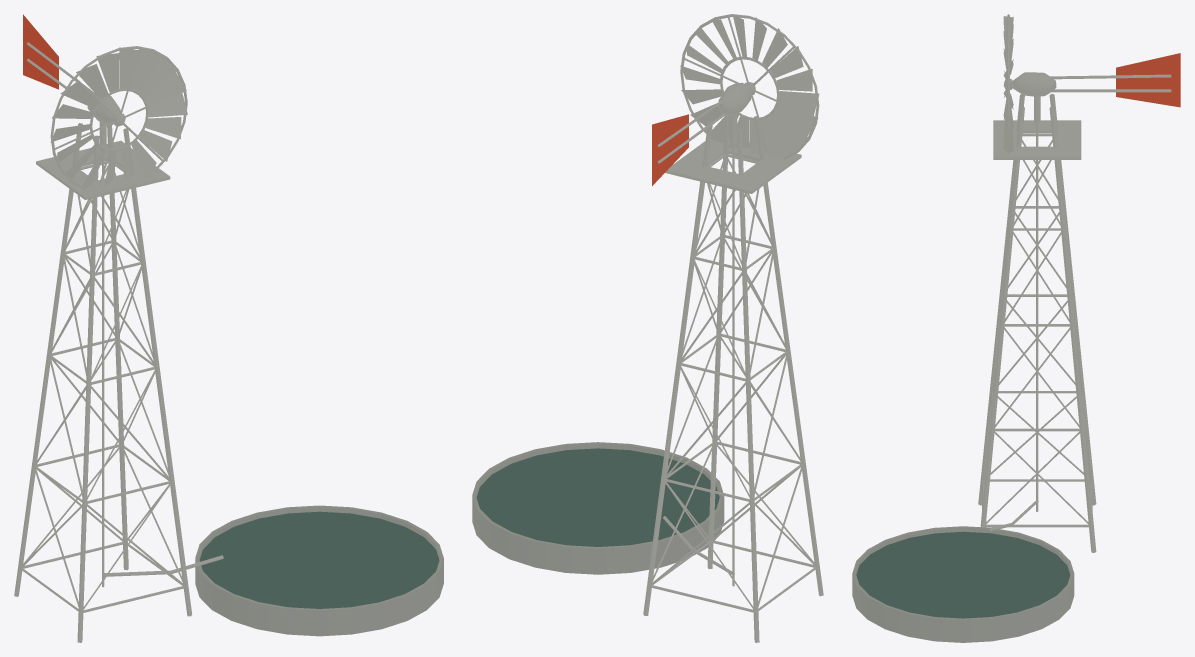
The model's file is Blender_Windmill_1.glb.
The picture shows the model from 3 angles, left to right: view 1: azimuth 30°, elevation 25°; view 2: azimuth 150°, elevation 25°; view 3: azimuth 270°, elevation 25°; orthographic projection. The views are drawn at different scales.
Visible parts, largest first — view 1: Blender_Windmill_1; view 2: Blender_Windmill_1; view 3: Blender_Windmill_1.
Boxes of the visible parts, bbox=[...] form: Blender_Windmill_1: bbox=[14, 14, 443, 642]; Blender_Windmill_1: bbox=[472, 14, 823, 642]; Blender_Windmill_1: bbox=[852, 14, 1180, 642].
Bounding box in the file's own units: 7.83 × 12.13 × 7.1.
